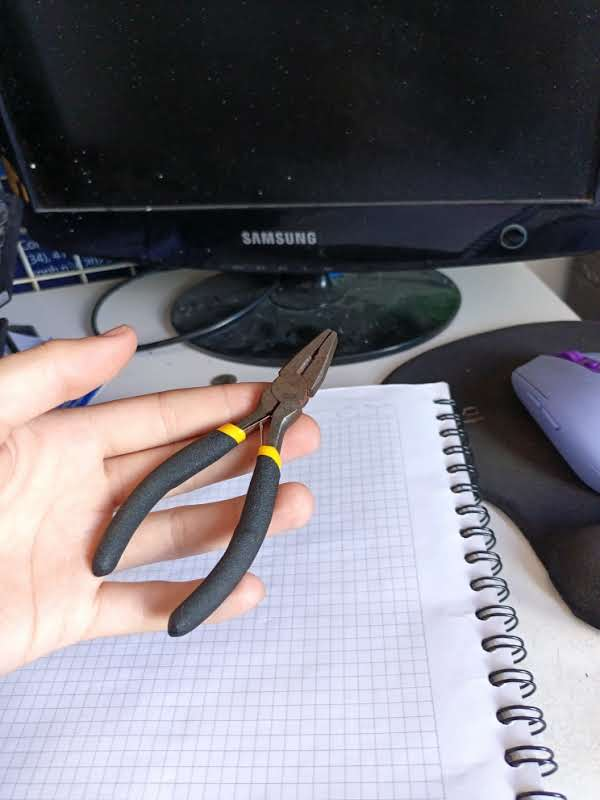Pinzas: (93, 330, 336, 635)
